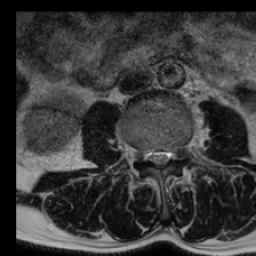CCS_severe_stenosis: (153, 142, 162, 175)
LFS_normal: (171, 139, 180, 167)
LLS_normal: (162, 142, 171, 169)
RFS_normal: (135, 141, 144, 168)
RLS_normal: (144, 143, 153, 168)
